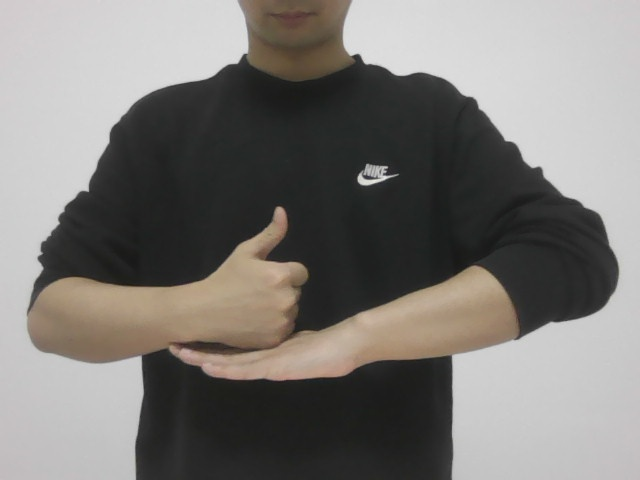new: (169, 199, 363, 389)
